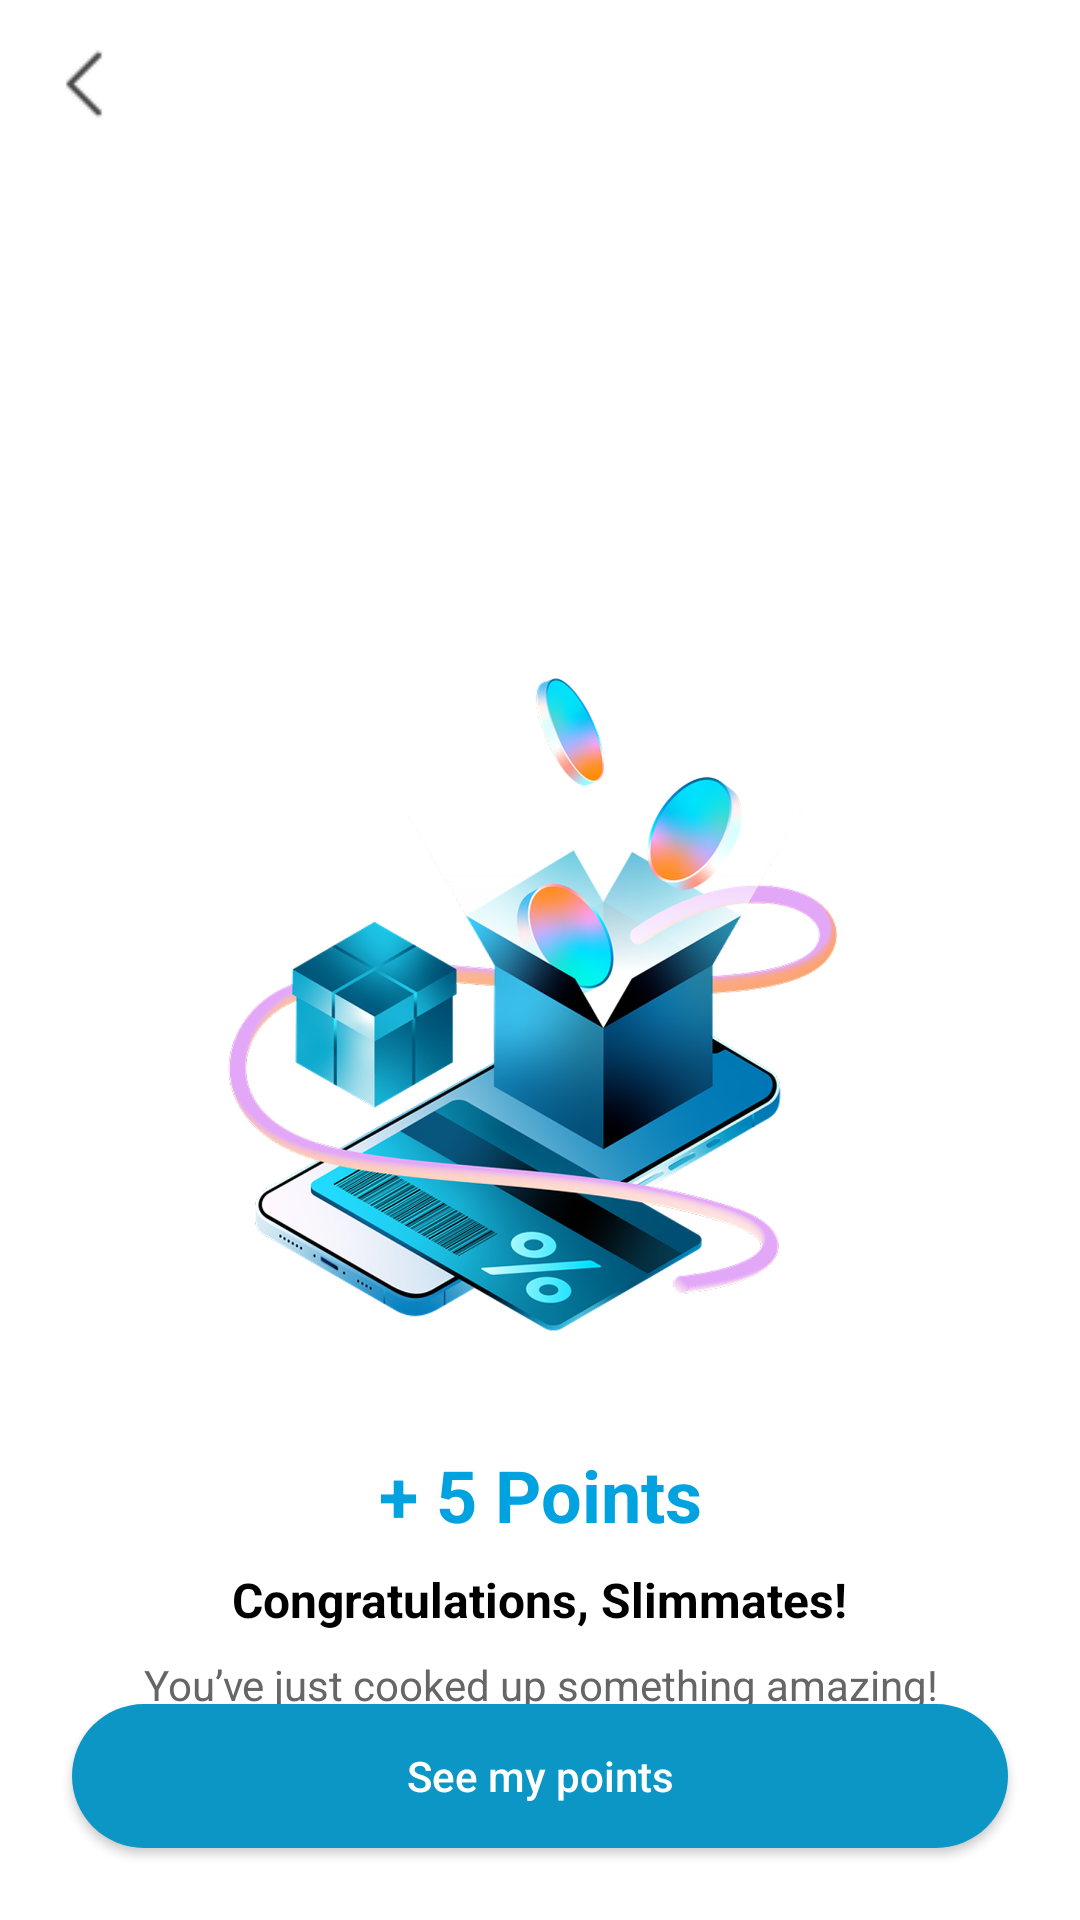

Where to tap for icons on this 1080 × 1920 app screen, as point (x, y):
Back: point (84, 84)
